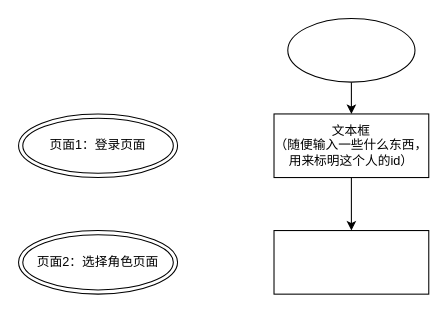
Some shapes in this 447 by 313 pixel diagram are drawn without their labels. Here are the shapes that lost their labels. From the top down, the box of each, then its label:
(287, 17, 415, 82): 人—输入域名
(273, 229, 429, 294): 两个按钮（用来选择身份），一个admin和一个user
